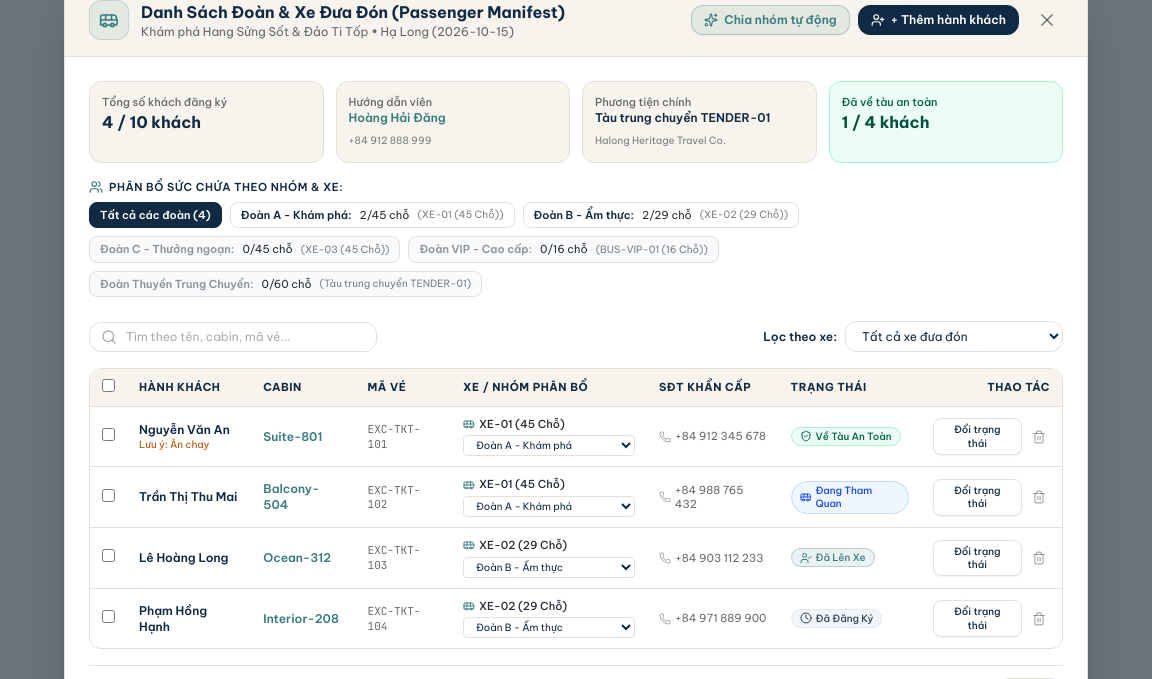
Scenario: ExcursionGroupAssignment Tests (KAN-181) › removes a passenger when clicking the delete button
The width and height of the screenshot is (1152, 679).
Expected: the text "Nguyễn Văn An" is shown, top-left (139, 422), bottom-right (230, 437)
Click the button titled "Xóa Nguyễn Văn An khỏi tour". click: (1039, 437)
box: top-left (1028, 426), bottom-right (1050, 448)
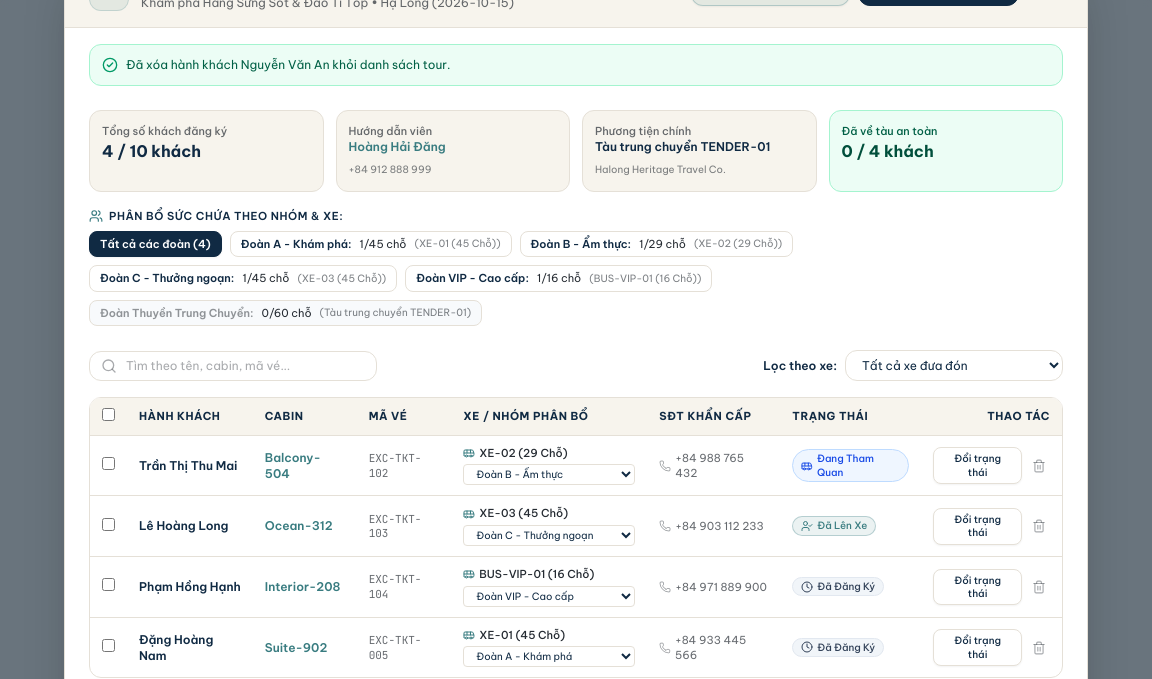
Expected: the text "Đã xóa hành khách Nguyễn Văn An khỏi danh sách tour." is shown, top-left (126, 57), bottom-right (450, 73)
